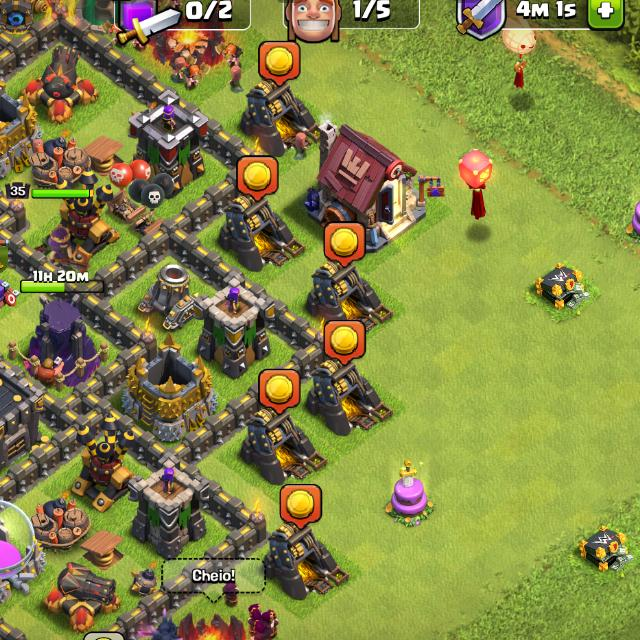FullCoin: (278, 482, 324, 531), (258, 366, 302, 416), (324, 318, 368, 367), (235, 154, 279, 202), (258, 40, 302, 85), (323, 222, 366, 266)
